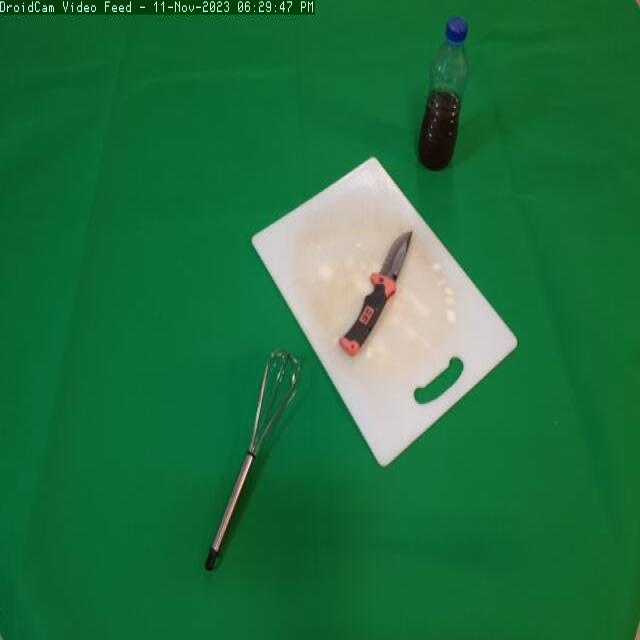cutting board: (252, 152, 534, 472)
fullbottle: (412, 11, 477, 187)
knife: (334, 225, 417, 360)
whisk: (194, 344, 313, 584)
